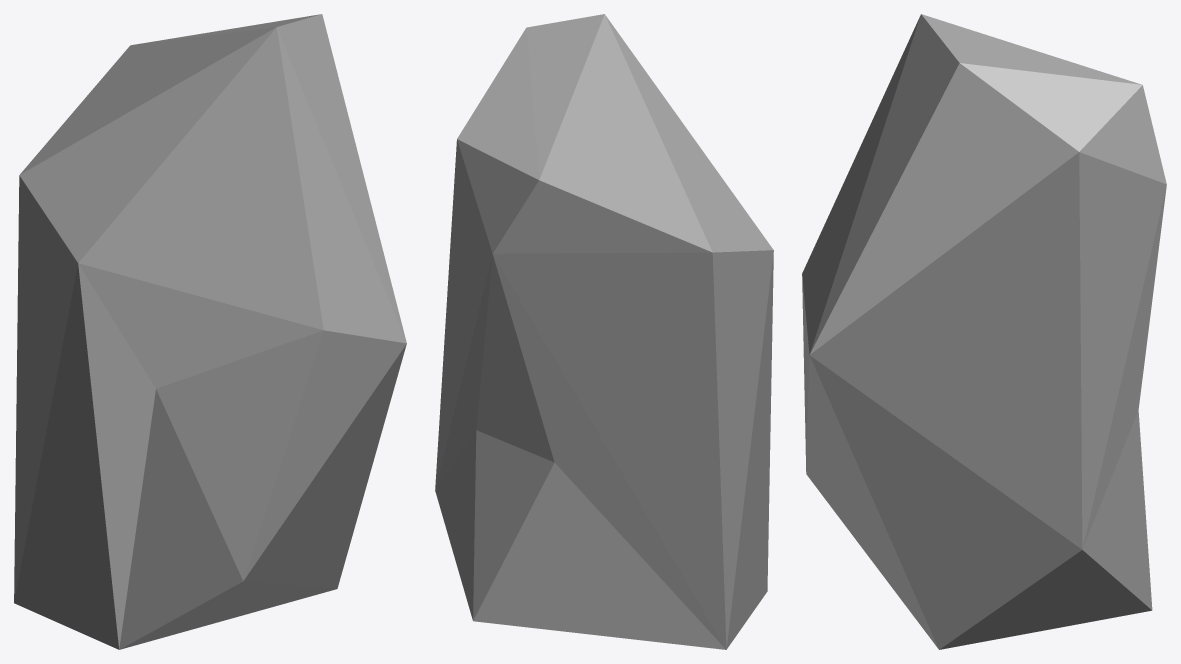
Rendered from rock_13.fbx.
3 views of the same model, side by side, from view 1: azimuth 30°, elevation 25°; view 2: azimuth 150°, elevation 25°; view 3: azimuth 270°, elevation 25° (orthographic). The views are drawn at different scales.
Visible parts, largest first — view 1: rock_13; view 2: rock_13; view 3: rock_13.
Boxes of the visible parts, <box> form: rock_13: <box>14,14,406,649</box>; rock_13: <box>435,14,773,649</box>; rock_13: <box>802,14,1166,649</box>.
Bounding box in the file's own units: 31.73 × 59.72 × 32.84.
